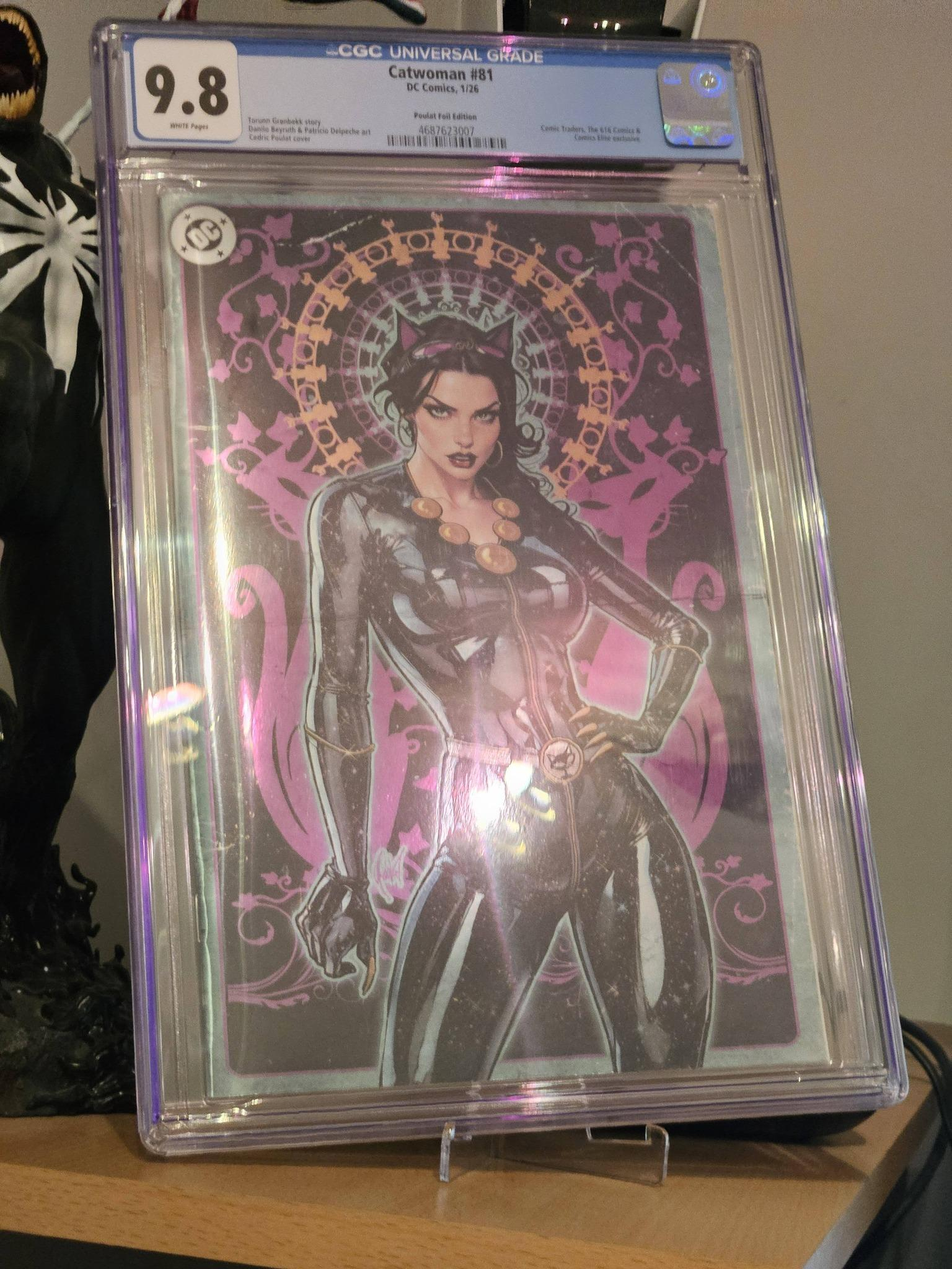comic: (131, 166, 826, 1099)
